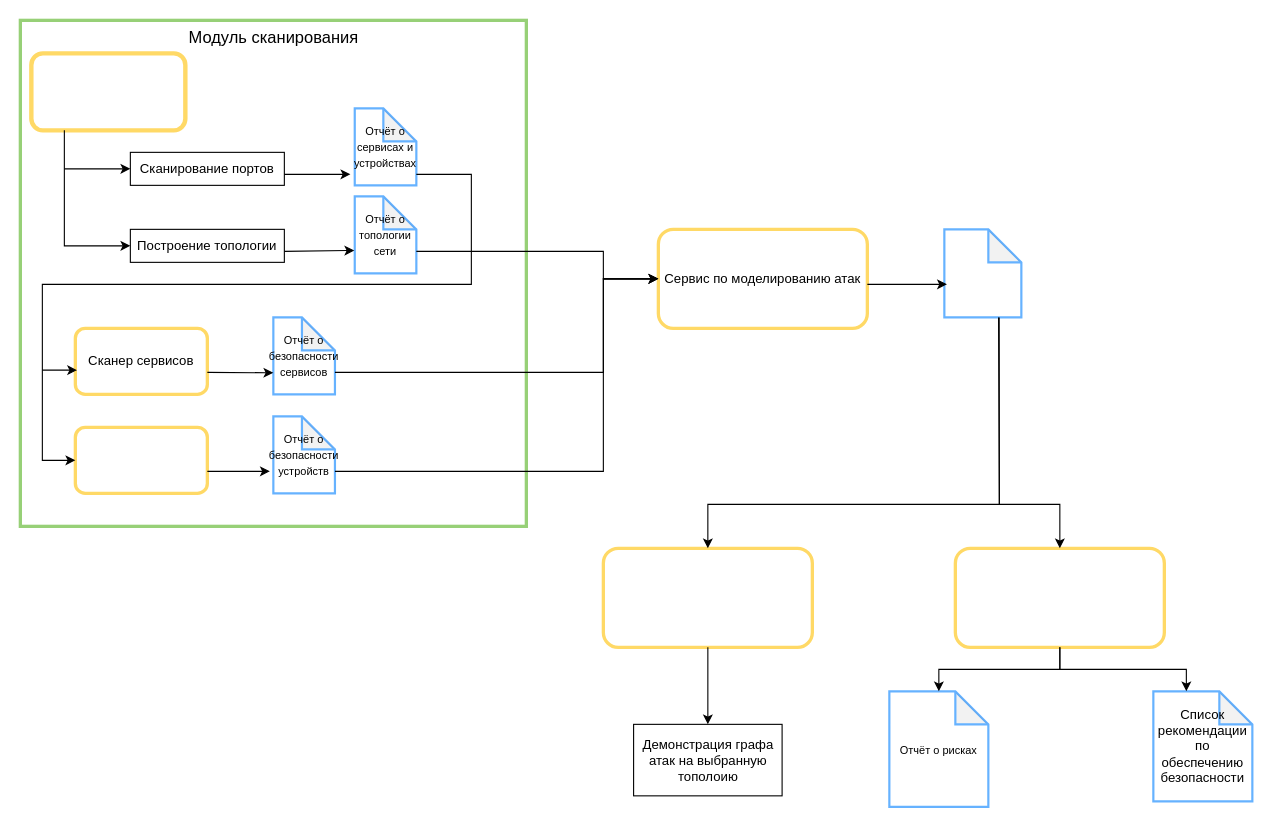
Some shapes in this 1273 by 827 pixel diagram are drawn without their labels. Here are the shapes that lost their labels. From the top down, the box of each, then its label:
(29, 51, 187, 132): Сетевой сканер
(943, 228, 1022, 318): Отчёт о безопасности сети
(73, 425, 208, 494): Сканер устройств
(601, 546, 813, 648): Сервис визуализации
(953, 546, 1165, 648): Сервис по анализу безопасности
